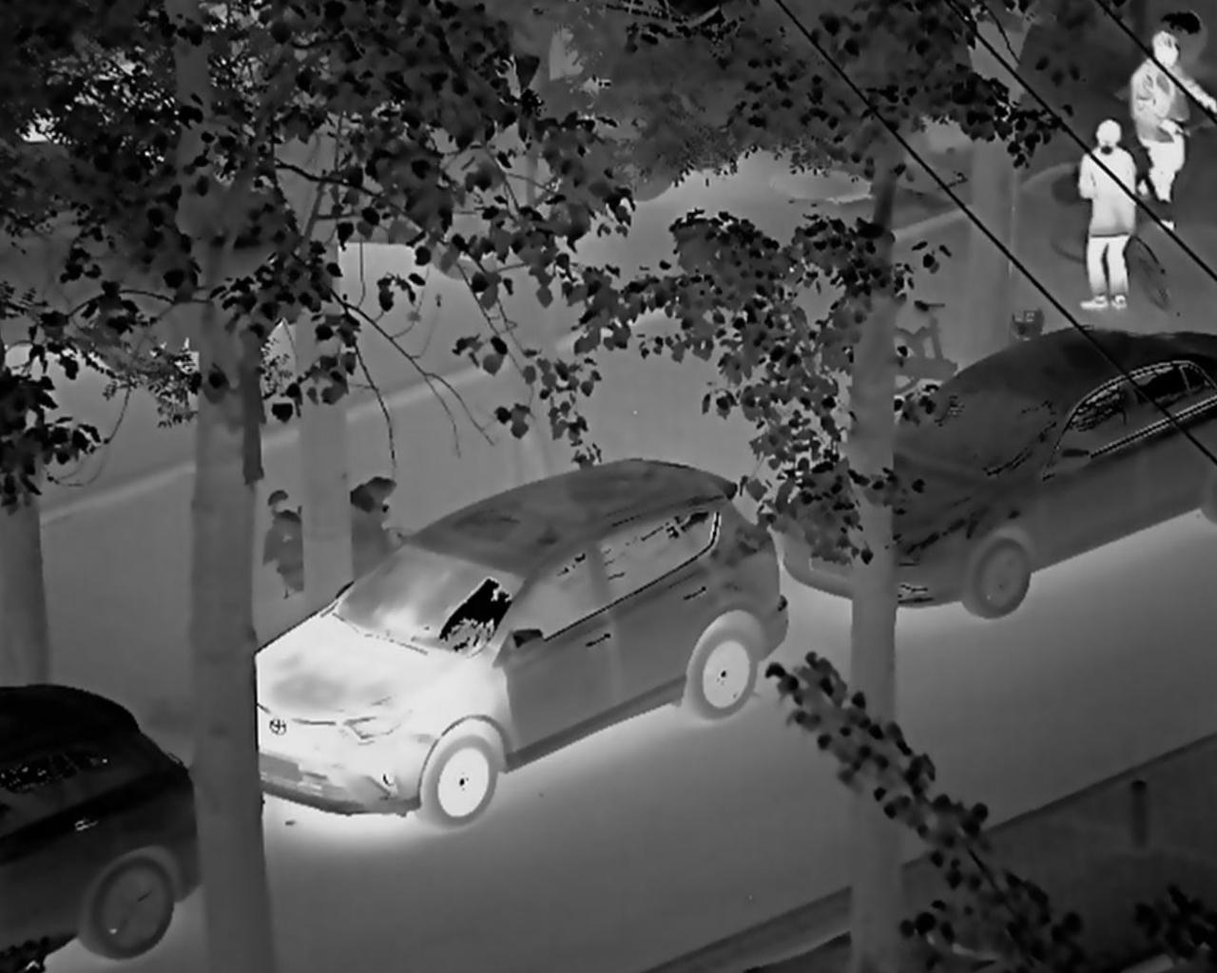person: (1123, 33, 1213, 235), (1077, 118, 1133, 312)
